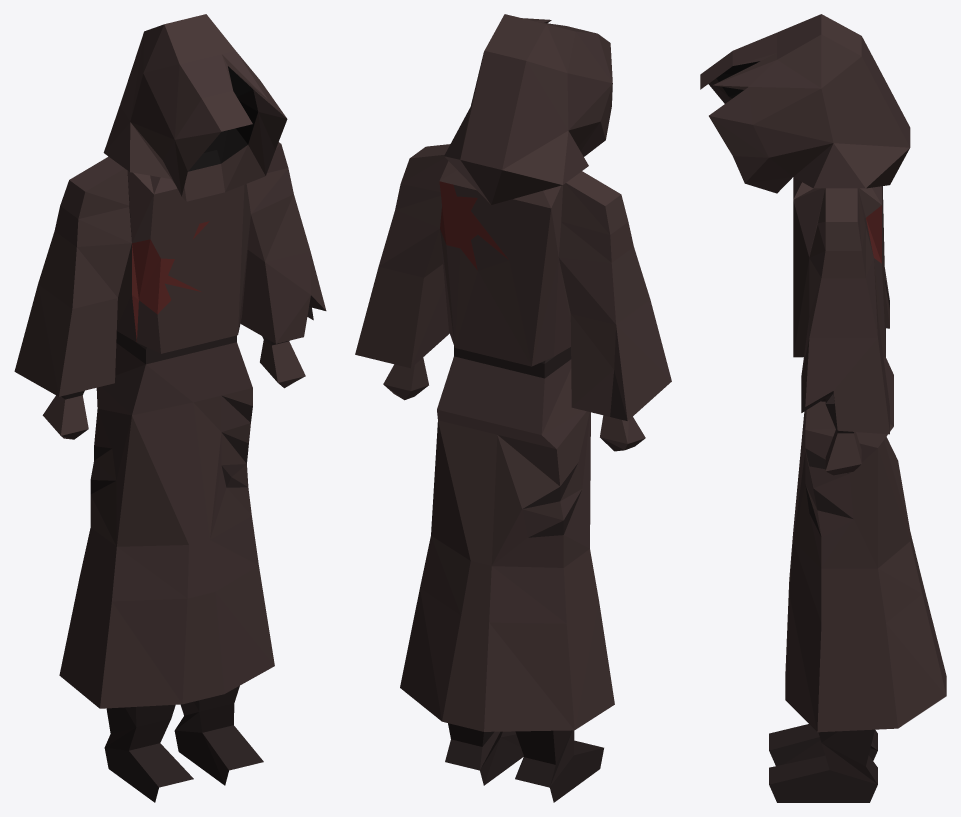
The model's file is hallowed-sepulchre.gltf.
3 renders of one model, left to right at view 1: azimuth 30°, elevation 25°; view 2: azimuth 150°, elevation 25°; view 3: azimuth 270°, elevation 25°, orthographic.
Size of the model in its own units: 78 by 206 by 61.
Materials: 1 (1 with a texture image).
